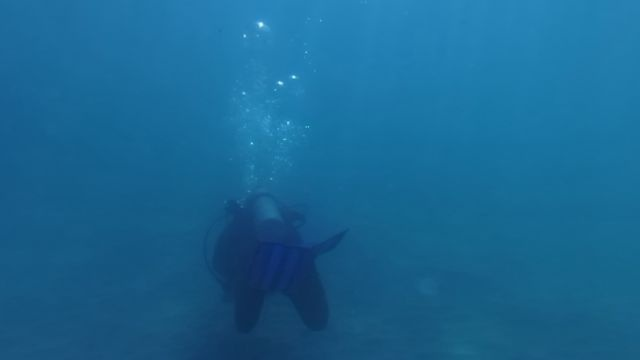Diver: (209, 193, 360, 341), (250, 235, 309, 305), (307, 229, 355, 266)
